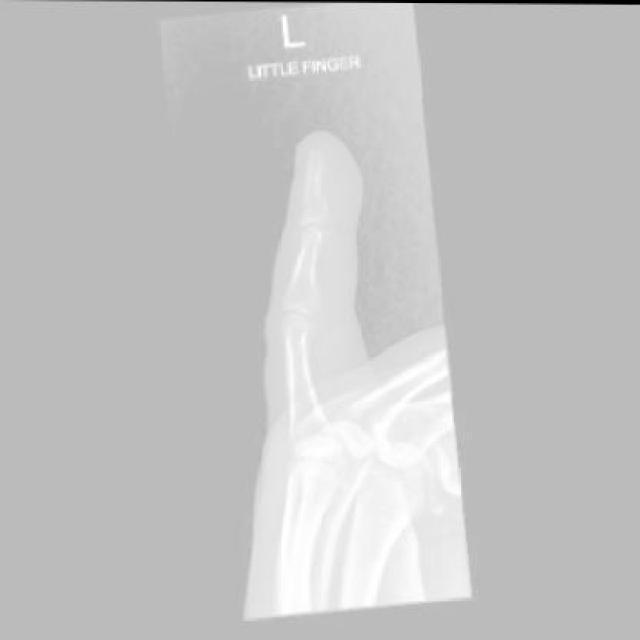Fracture: (300, 182, 331, 215)
